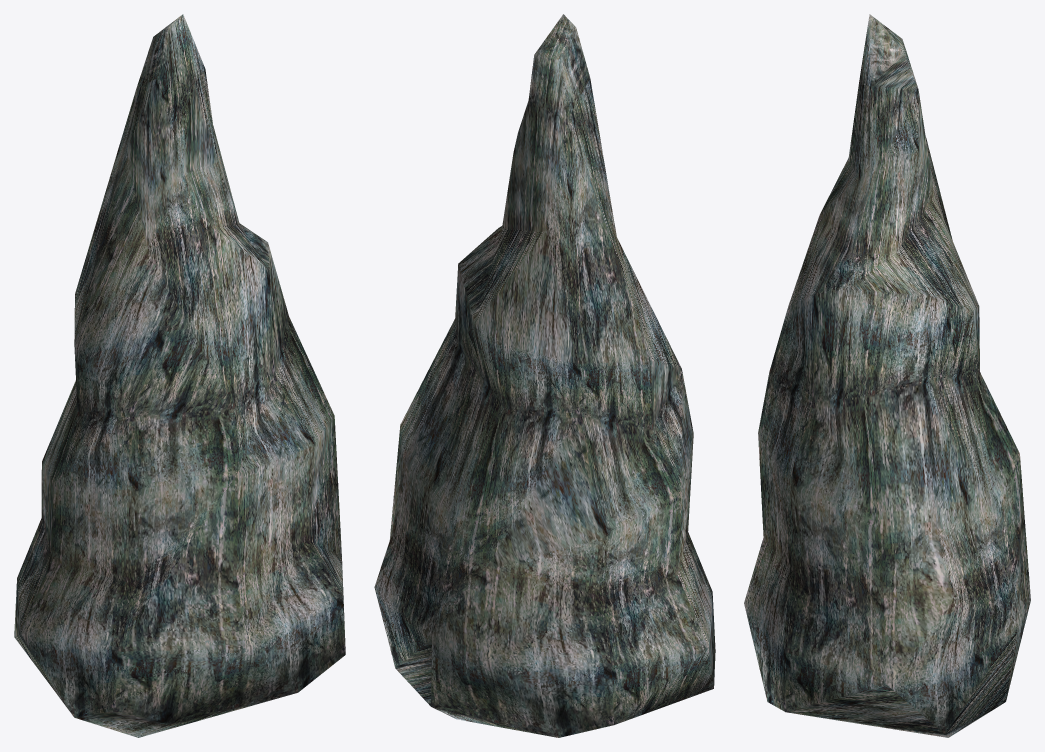
The model's file is rock_dath_desertcanyon_lg_l1.fbx.
The picture shows the model from 3 angles, left to right: view 1: azimuth 30°, elevation 25°; view 2: azimuth 150°, elevation 25°; view 3: azimuth 270°, elevation 25°; orthographic projection.
Parts seen in each view (by area): view 1: mesh_node; view 2: mesh_node; view 3: mesh_node.
Part boxes in pixels (box(x1,y1,x2,y2)): mesh_node: box(14, 14, 345, 737); mesh_node: box(374, 14, 715, 737); mesh_node: box(744, 14, 1030, 737).
Size of the model in its own units: 8.9 by 18.34 by 6.9.
